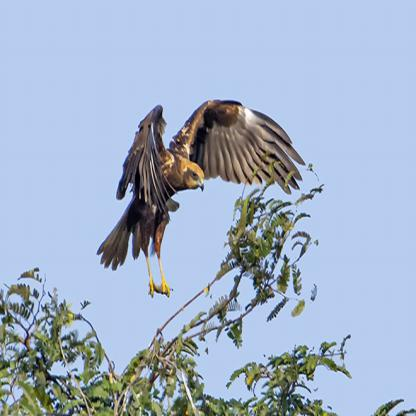Burung: (97, 98, 303, 294)
